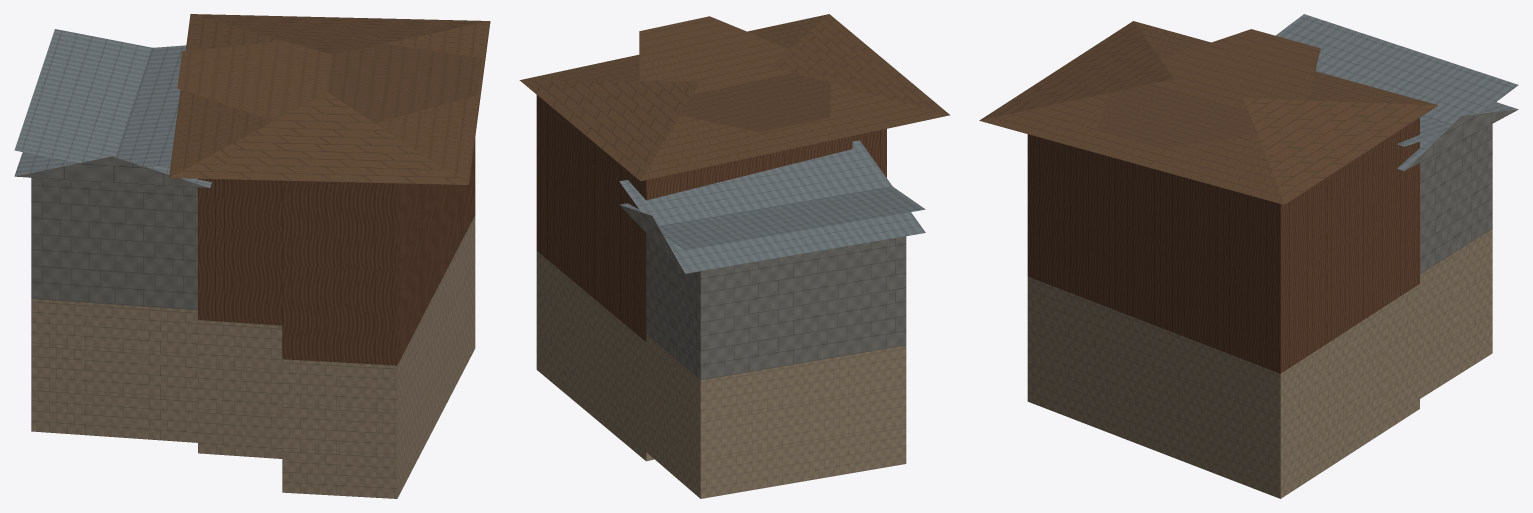
The model's file is bld_c13_41_475.gltf.
3 renders of one model, left to right at view 1: azimuth 30°, elevation 25°; view 2: azimuth 150°, elevation 25°; view 3: azimuth 270°, elevation 25°, orthographic. The views are drawn at different scales.
Parts seen in each view (by area): view 1: bld_c13_41_475; view 2: bld_c13_41_475; view 3: bld_c13_41_475.
Boxes of the visible parts, bbox=[...] form: bld_c13_41_475: bbox=[14, 14, 490, 498]; bld_c13_41_475: bbox=[519, 14, 949, 498]; bld_c13_41_475: bbox=[979, 14, 1518, 498].
Size of the model in its own units: 18.64 by 13.3 by 19.94.
6 materials, 6 textured.
